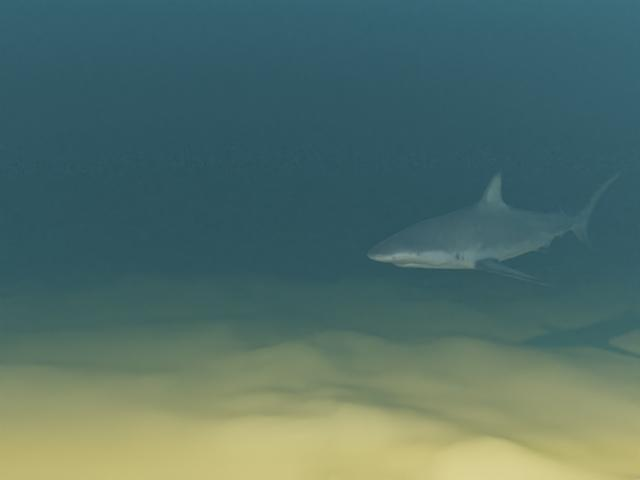Carribean Shark.001: (367, 166, 630, 285)
